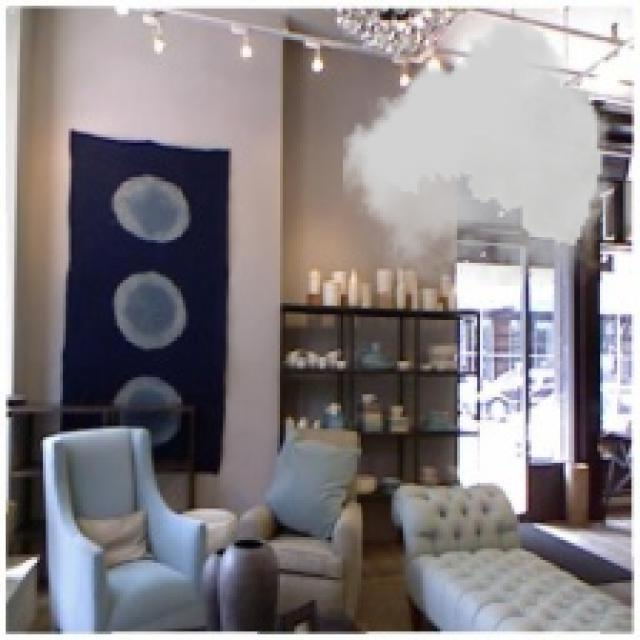Smoke: (343, 20, 614, 286)
